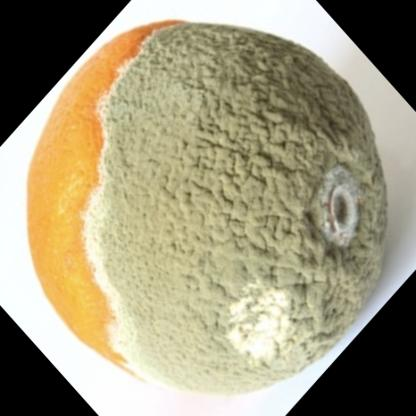rotten: (27, 22, 391, 399)
